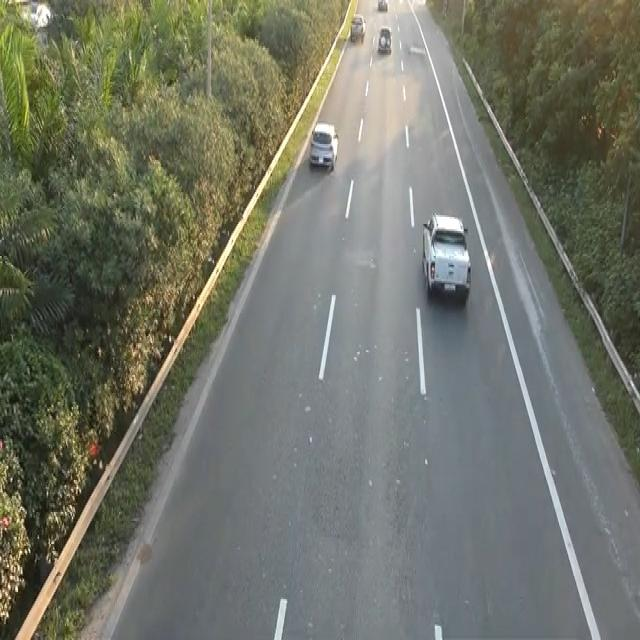bus: (308, 119, 339, 171)
car: (420, 208, 475, 309), (377, 25, 392, 53)
